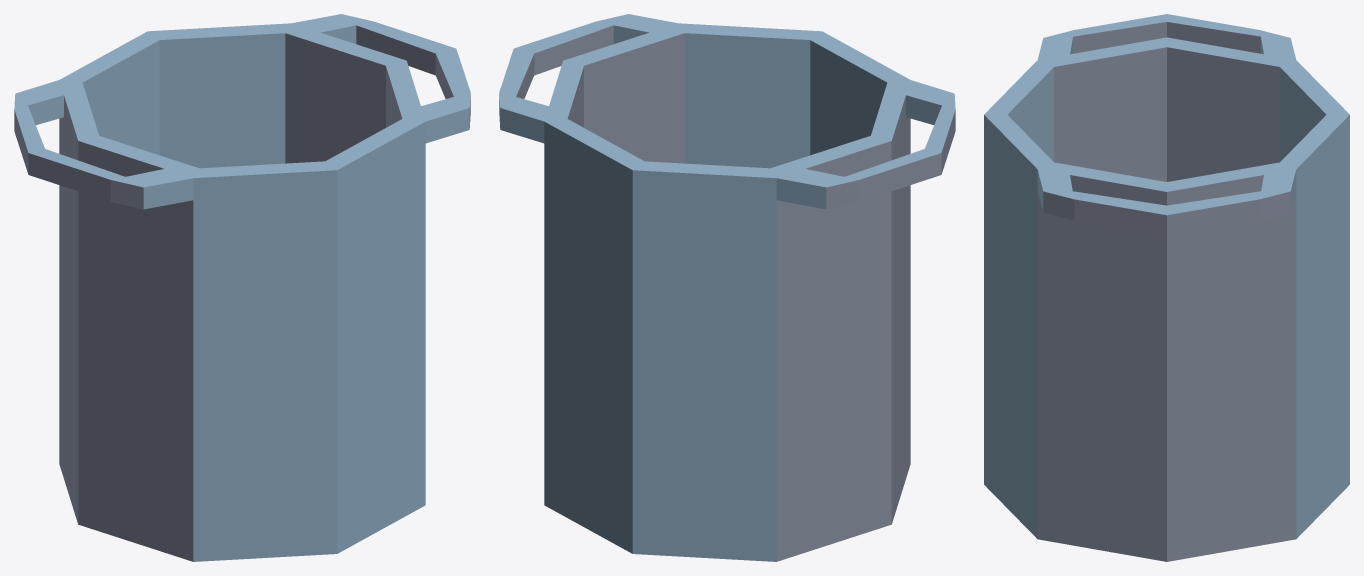
File: Cooking Pot.fbx
3 renders of one model, left to right at view 1: azimuth 30°, elevation 25°; view 2: azimuth 150°, elevation 25°; view 3: azimuth 270°, elevation 25°, orthographic. The views are drawn at different scales.
Parts seen in each view (by area): view 1: Cooking Pot; view 2: Cooking Pot; view 3: Cooking Pot.
Boxes of the visible parts, x1=… form: Cooking Pot: x1=14, y1=14, x2=470, y2=561; Cooking Pot: x1=499, y1=14, x2=955, y2=561; Cooking Pot: x1=984, y1=14, x2=1349, y2=561.
Bounding box in the file's own units: 79.48 × 68.12 × 61.04.
